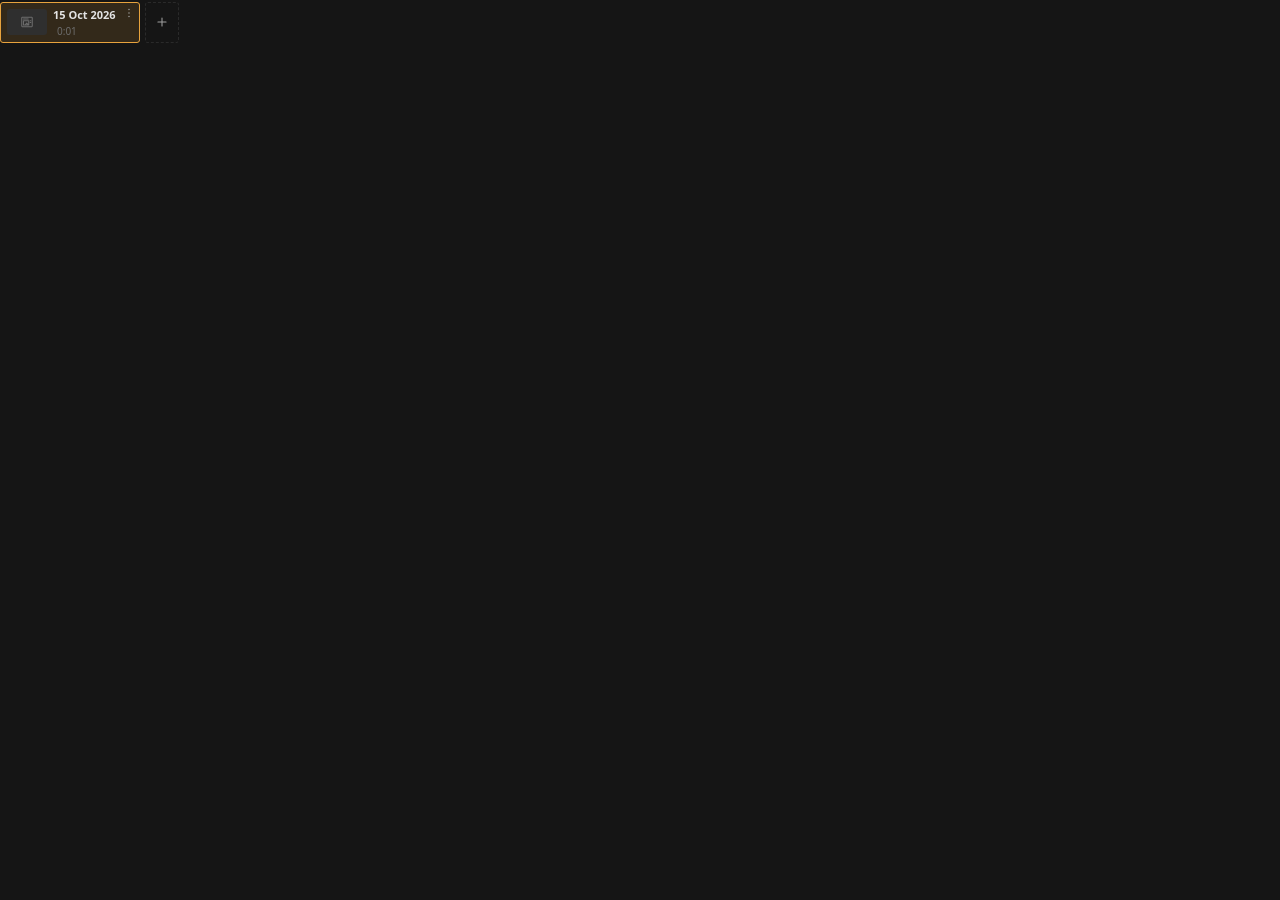
Test: the steps of a day › offers no hiding on a day added to the play without steps: it is taken out instead
This screenshot has width=1280, height=900.
What coordinates should you click on to do the following:
click the button named "Set 15 Oct 2026"
I would click on:
 (129, 13)
Its box is [120,4,138,22].
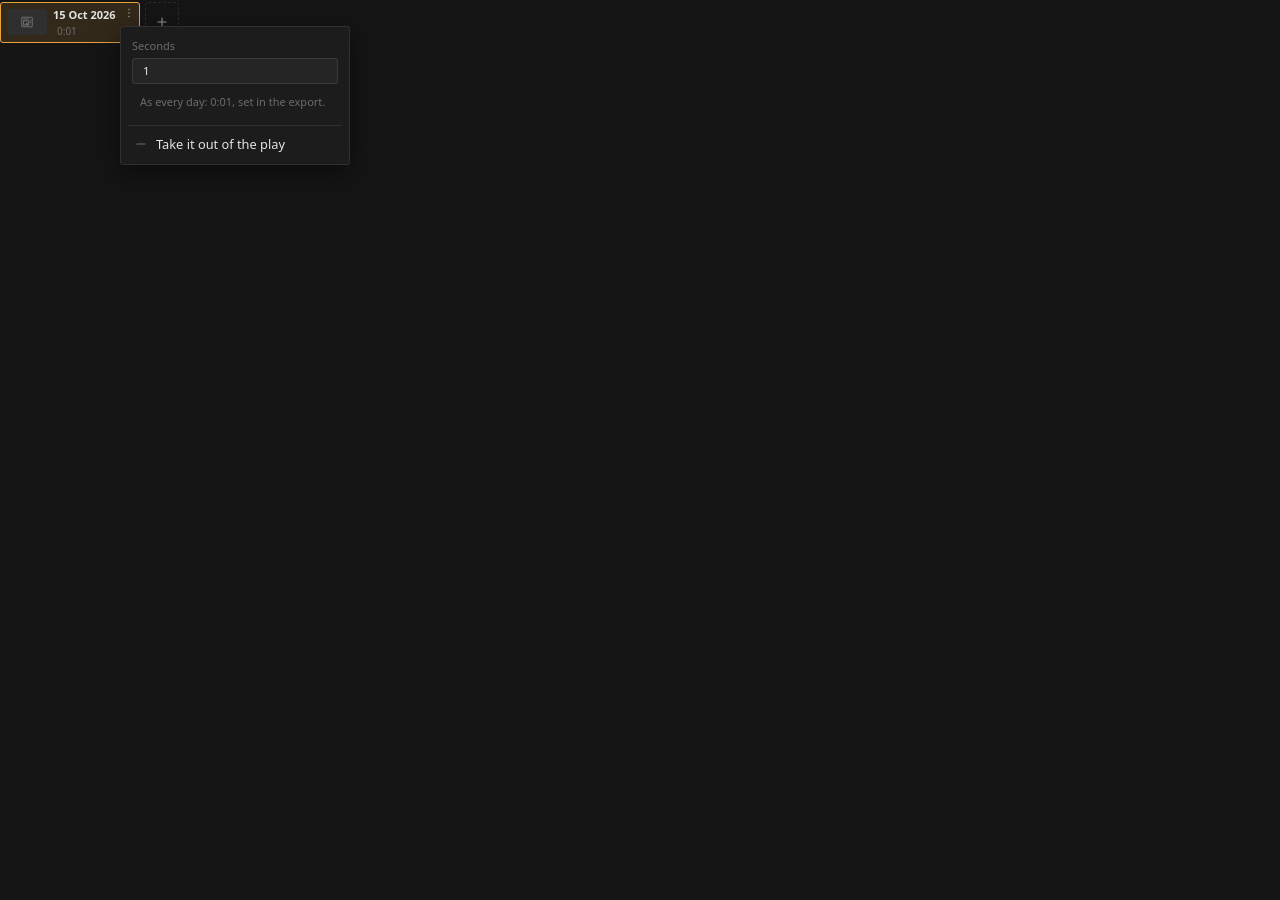
Result: the text "Take it out" is shown at [156,135,285,153]
